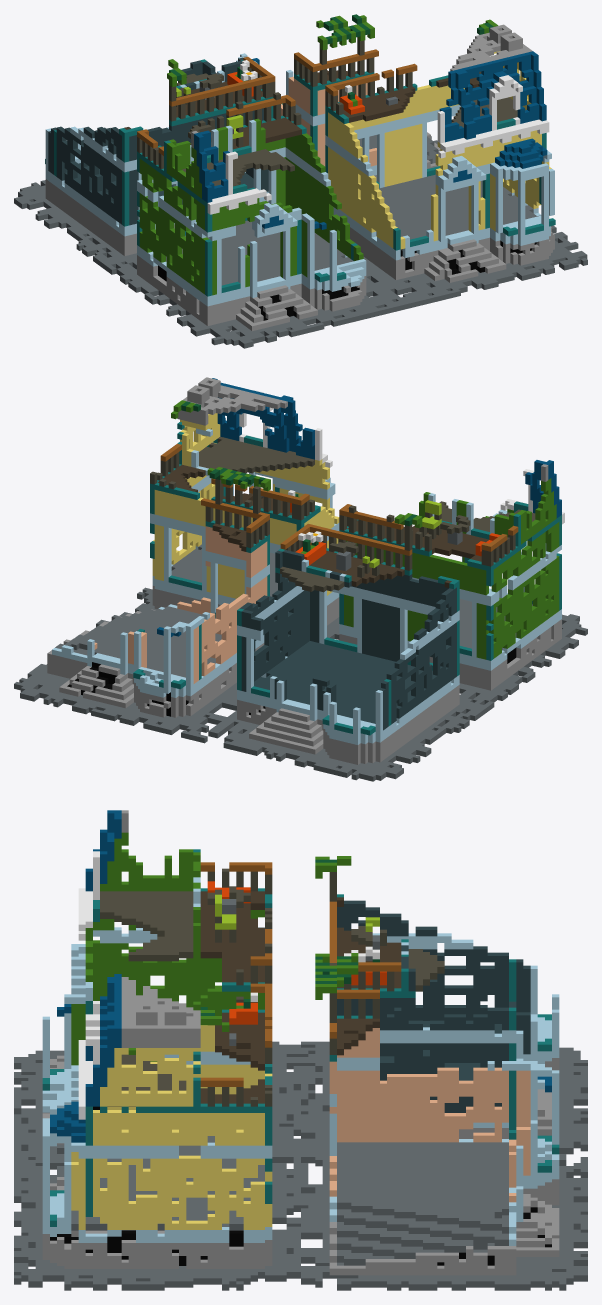
File: building_small_6_destroyed.obj
3 views of the same model, one above another, from view 1: azimuth 30°, elevation 25°; view 2: azimuth 150°, elevation 25°; view 3: azimuth 270°, elevation 25° (orthographic). The views are drawn at different scales.
Size of the model in its own units: 8 by 4 by 8.
1 material, 1 textured.
